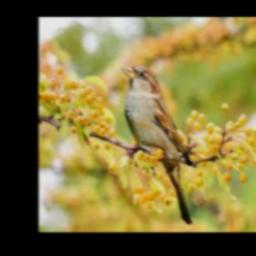Sparrow: (122, 64, 192, 225)
